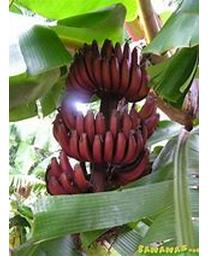banana: (44, 38, 157, 197)
